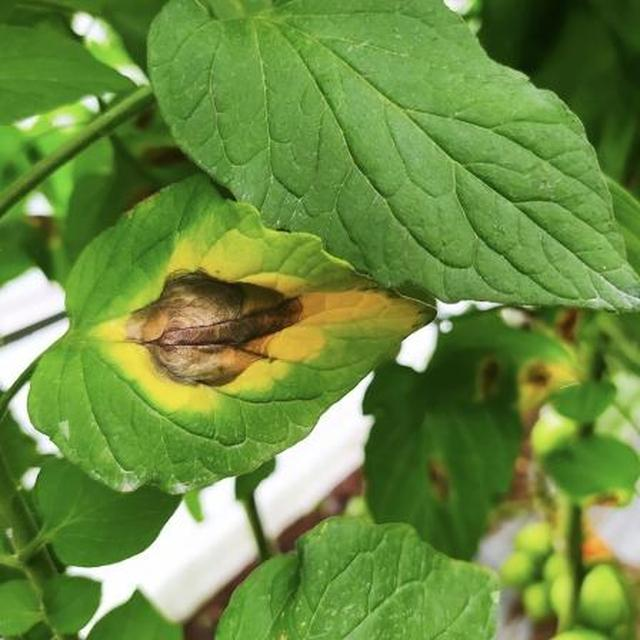Early Blight Leaf: (334, 227, 640, 481)
